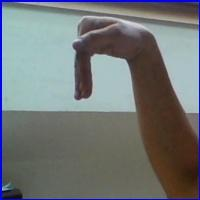del: (68, 12, 161, 107)
